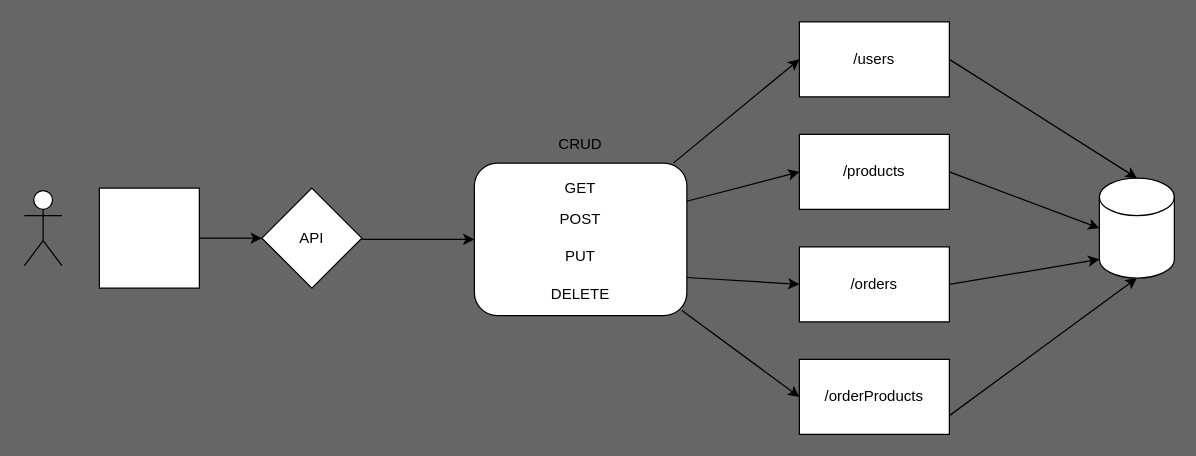
This 1196x456 diagram has some shape labels left out. The centre of each missing label's shape, as x and y in pixels:
"Admin" goes at pixel 42 227.
"Front-End" goes at pixel 148 237.
"Local Storage" goes at pixel 1136 227.
